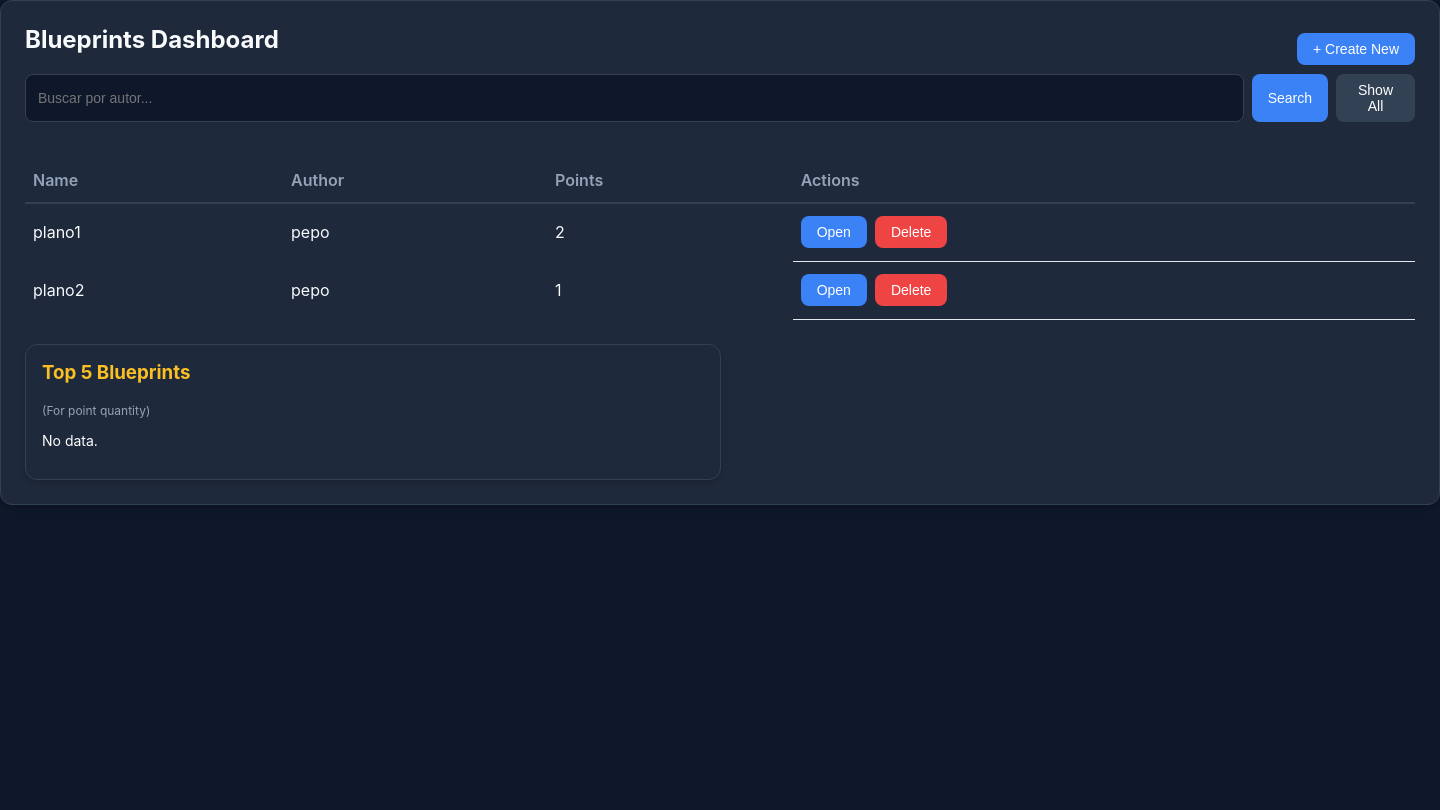
Test: BlueprintsPage › muestra el total de puntos calculados por autor
Type "pepo" into the field with placeholder "Buscar por autor..." at (634, 98), box x1=25 y1=74 x2=1244 y2=122
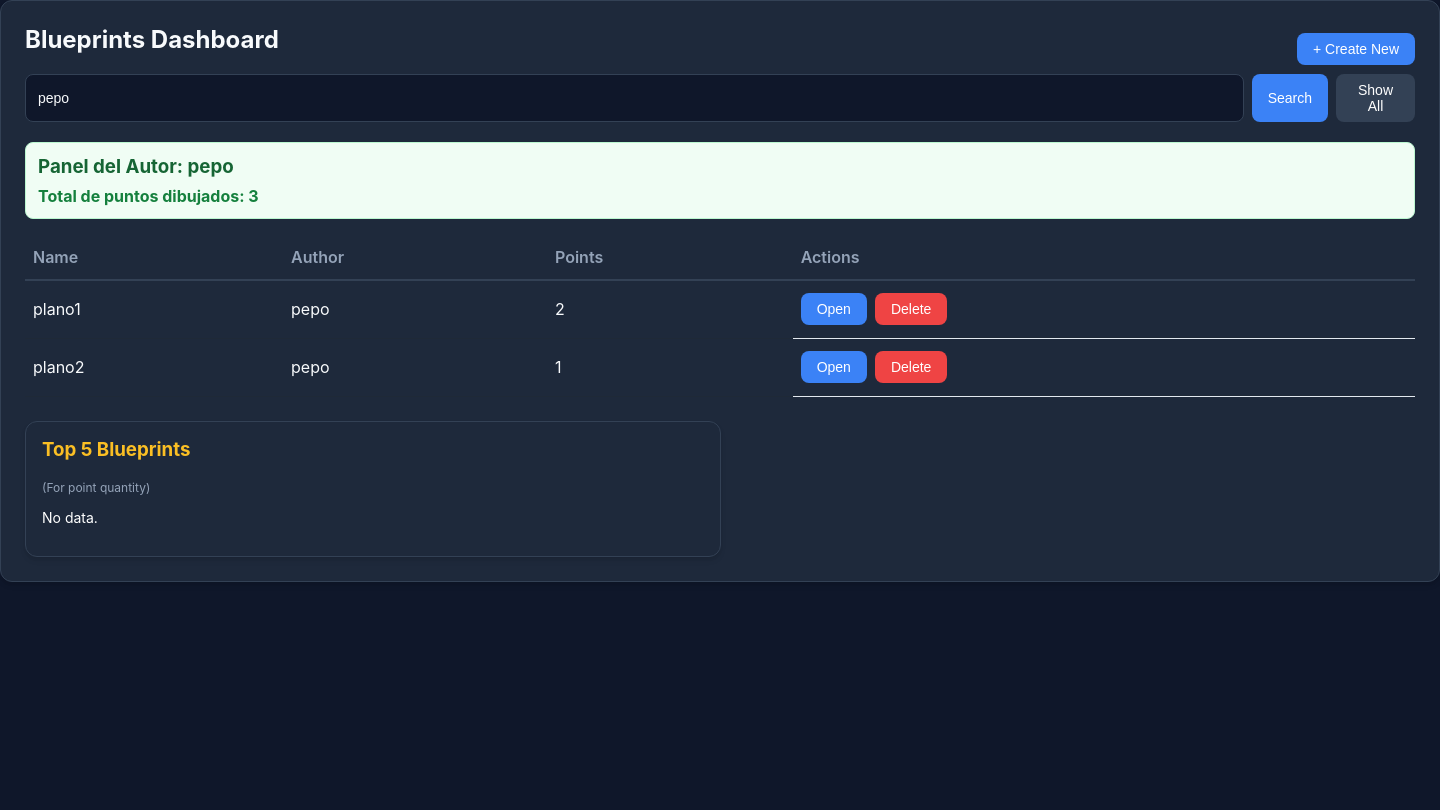
Result: the text "Total de puntos dibujados: 3" is shown at x1=38 y1=186 x2=259 y2=206
